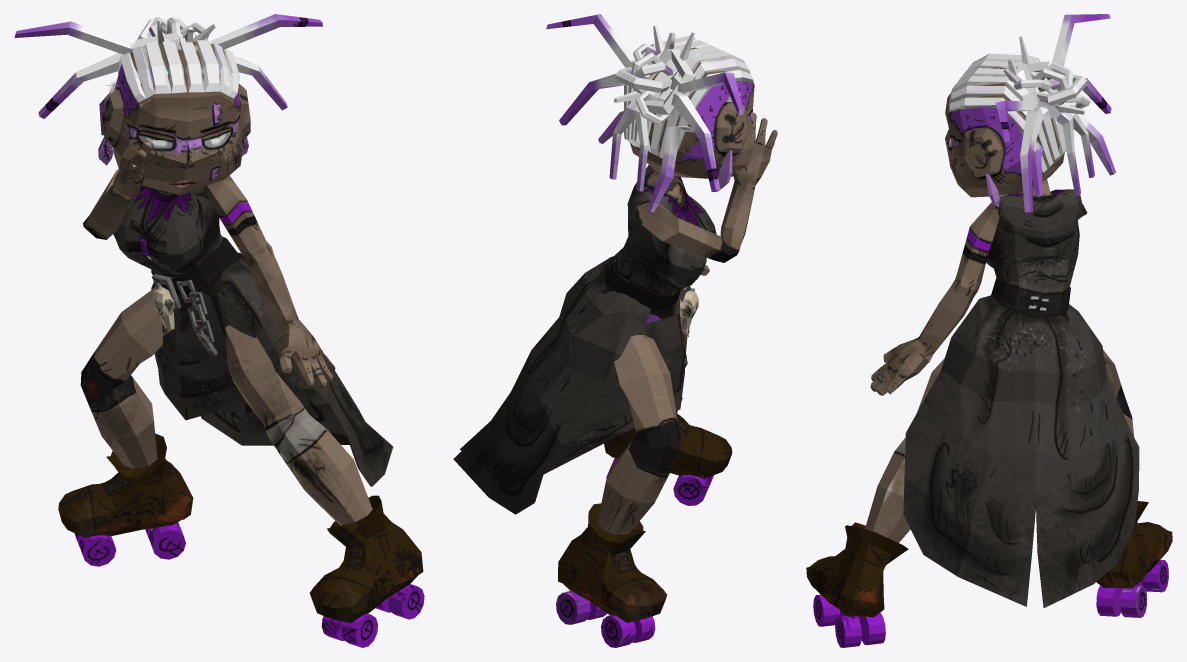
The model's file is bruja_000042.obj.
3 views of the same model, side by side, from view 1: azimuth 30°, elevation 25°; view 2: azimuth 150°, elevation 25°; view 3: azimuth 270°, elevation 25° (orthographic). The views are drawn at different scales.
Visible parts, largest first — view 1: Bruja_Plane.001; view 2: Bruja_Plane.001; view 3: Bruja_Plane.001.
Part boxes in pixels (box(x1,y1,x2,y2)): Bruja_Plane.001: box(14, 14, 424, 647); Bruja_Plane.001: box(453, 14, 777, 647); Bruja_Plane.001: box(806, 14, 1172, 647).
Bounding box in the file's own units: 9.26 × 15.44 × 9.25.
